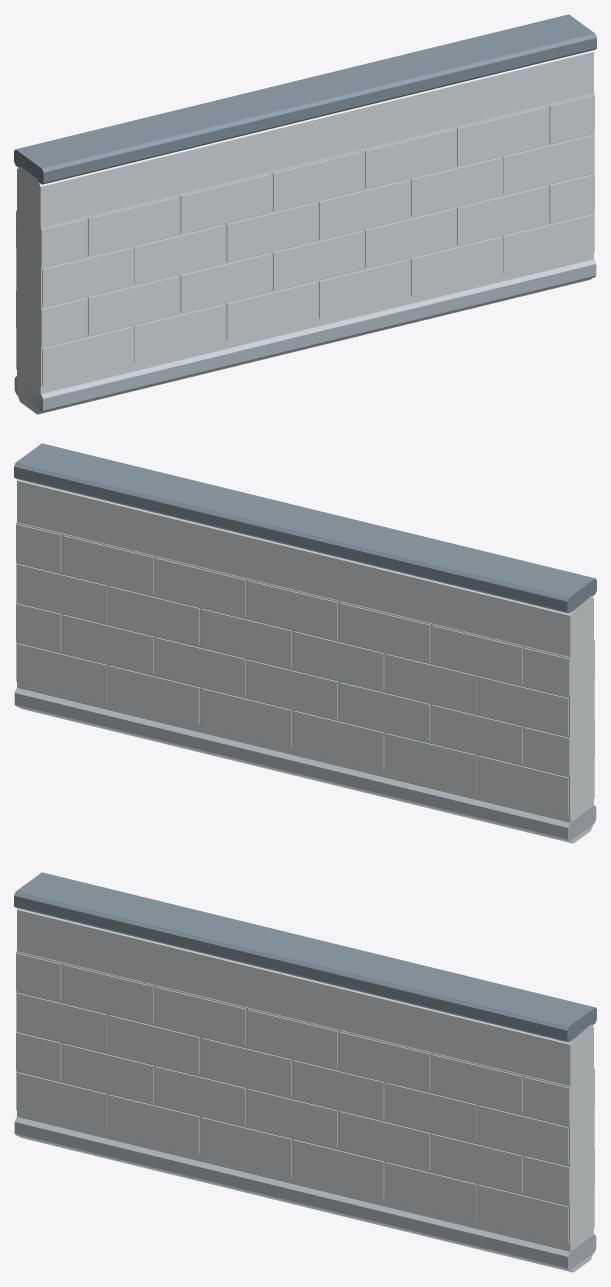
File: wall_hospital_pharmacy.glb
3 renders of one model, top to bottom at view 1: azimuth 30°, elevation 25°; view 2: azimuth 150°, elevation 25°; view 3: azimuth 330°, elevation 25°, orthographic.
Visible parts, largest first — view 1: Part_001, Part_002, Part_003, Part_005, Part_011, Part_037, Part_055, Part_013, Part_023, Part_033, Part_041, Part_053 (+18 smaller); view 2: Part_001, Part_002, Part_003, Part_004, Part_010, Part_036, Part_054, Part_012, Part_022, Part_032, Part_040, Part_052 (+18 smaller); view 3: Part_001, Part_002, Part_003, Part_005, Part_013, Part_039, Part_047, Part_011, Part_027, Part_035, Part_043, Part_049 (+18 smaller).
Boxes of the visible parts, left/top/right/bottom form: Part_001: left=17, top=50, right=593, bottom=414; Part_002: left=14, top=14, right=596, bottom=184; Part_003: left=14, top=259, right=596, bottom=412; Part_005: left=40, top=93, right=594, bottom=387; Part_011: left=226, top=281, right=317, bottom=340; Part_037: left=226, top=202, right=317, bottom=261; Part_055: left=457, top=106, right=547, bottom=165; Part_013: left=319, top=259, right=409, bottom=318; Part_023: left=180, top=253, right=270, bottom=312; Part_033: left=42, top=247, right=132, bottom=306; Part_041: left=411, top=157, right=501, bottom=216; Part_053: left=365, top=129, right=455, bottom=188; Part_001: left=17, top=479, right=593, bottom=843; Part_002: left=14, top=443, right=596, bottom=613; Part_003: left=14, top=688, right=596, bottom=841; Part_004: left=16, top=522, right=570, bottom=816; Part_010: left=293, top=710, right=384, bottom=769; Part_036: left=293, top=631, right=384, bottom=690; Part_054: left=63, top=535, right=153, bottom=594; Part_012: left=201, top=688, right=291, bottom=747; Part_022: left=340, top=682, right=430, bottom=741; Part_032: left=478, top=676, right=568, bottom=735; Part_040: left=109, top=586, right=199, bottom=645; Part_052: left=155, top=558, right=245, bottom=617; Part_001: left=17, top=908, right=593, bottom=1272; Part_002: left=14, top=872, right=596, bottom=1042; Part_003: left=14, top=1117, right=596, bottom=1270; Part_005: left=16, top=951, right=570, bottom=1245; Part_013: left=293, top=1139, right=384, bottom=1198; Part_039: left=293, top=1060, right=384, bottom=1119; Part_047: left=63, top=964, right=153, bottom=1023; Part_011: left=201, top=1117, right=291, bottom=1176; Part_027: left=340, top=1111, right=430, bottom=1170; Part_035: left=109, top=1015, right=199, bottom=1074; Part_043: left=478, top=1105, right=568, bottom=1164; Part_049: left=155, top=987, right=245, bottom=1046.
Bounding box in the file's own units: 2.7 × 1.16 × 0.25.
